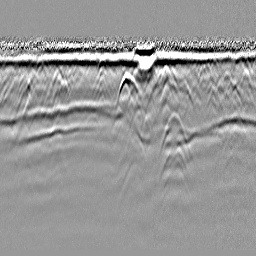cavity: (113, 68, 143, 108)
